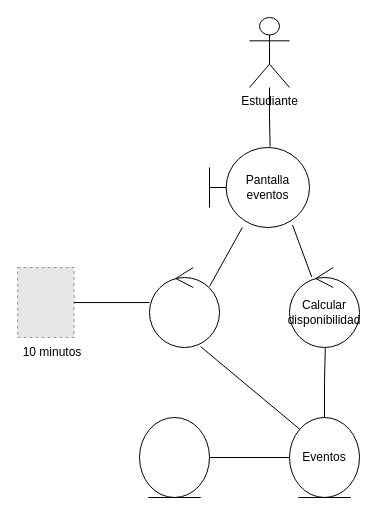
Image size: 378x515. Some labels were removed from this diagram. Grey dashed boxes stand in for pictures. Each missing label, with the box of its shape:
Gestión reserva: (148, 266, 220, 348)
Reserva: (138, 416, 210, 498)
